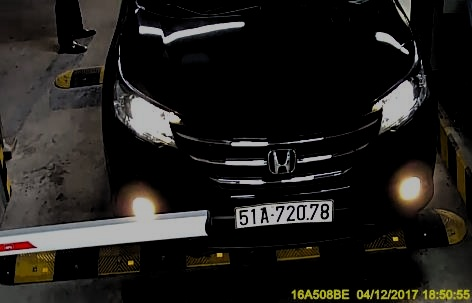plate: (234, 196, 333, 227)
